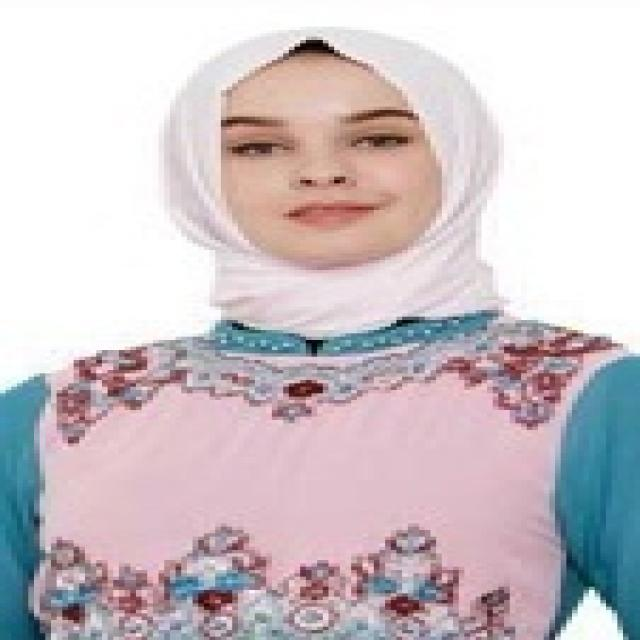head: (150, 24, 514, 284)
